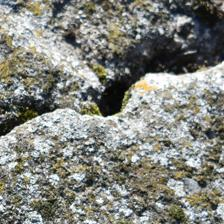Crack: (51, 10, 173, 114)
